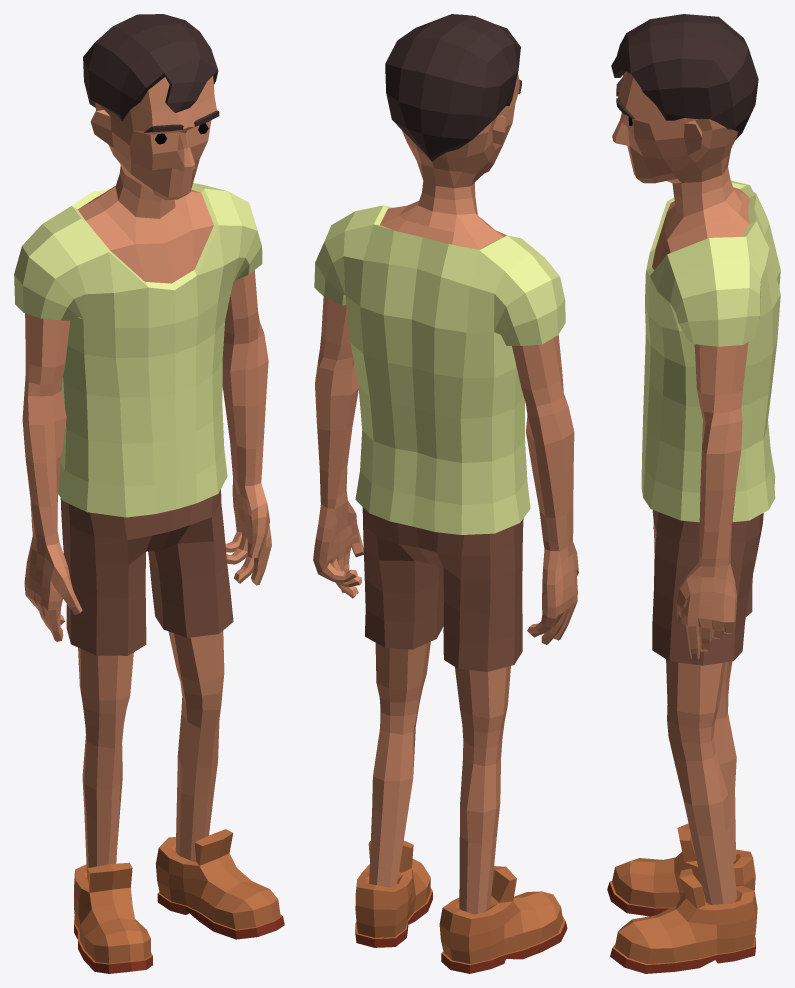
Rendered from Male_05.obj.
3 views of the same model, side by side, from view 1: azimuth 30°, elevation 25°; view 2: azimuth 150°, elevation 25°; view 3: azimuth 270°, elevation 25° (orthographic).
Parts seen in each view (by area): view 1: Body_01_Cube.001; view 2: Body_01_Cube.001; view 3: Body_01_Cube.001.
Part boxes in pixels (x1,y1,x2,y2): Body_01_Cube.001: (14, 14, 284, 973); Body_01_Cube.001: (313, 14, 578, 973); Body_01_Cube.001: (607, 14, 780, 973).
Size of the model in its own units: 0.5826 by 2.06 by 0.3582.
